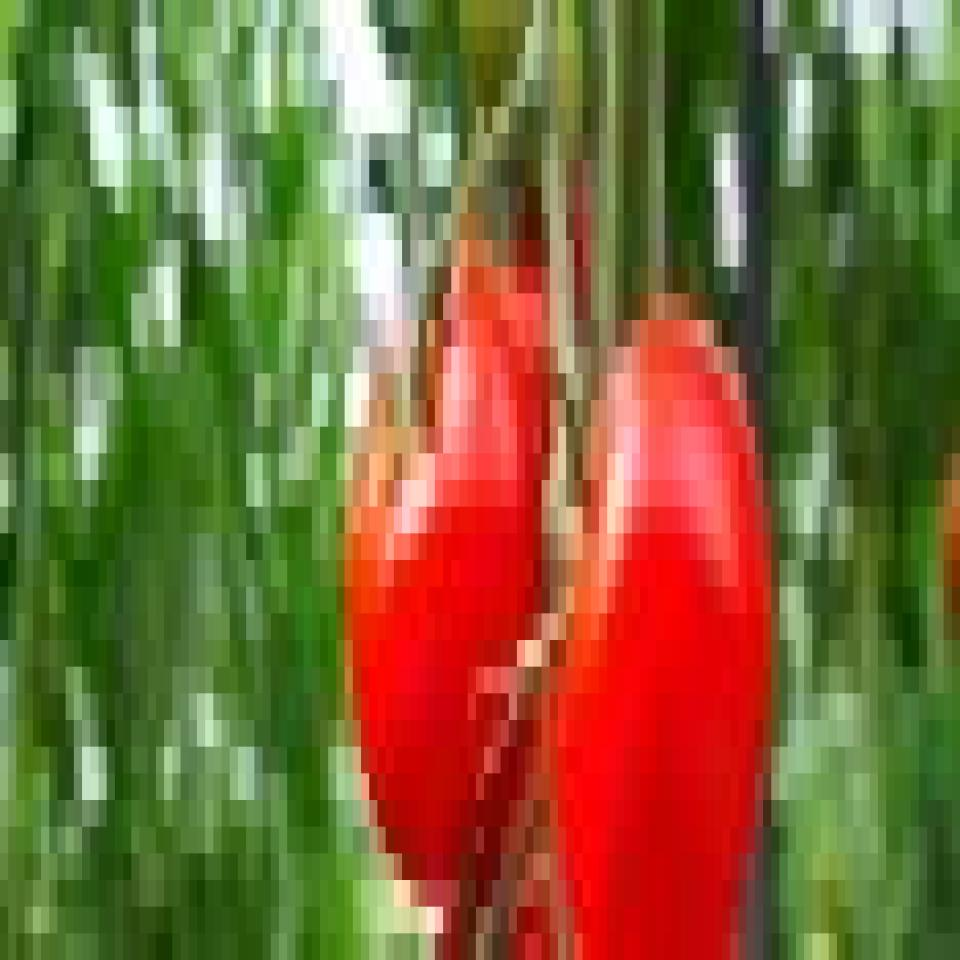Healthy: (550, 320, 755, 960), (355, 299, 529, 908)
